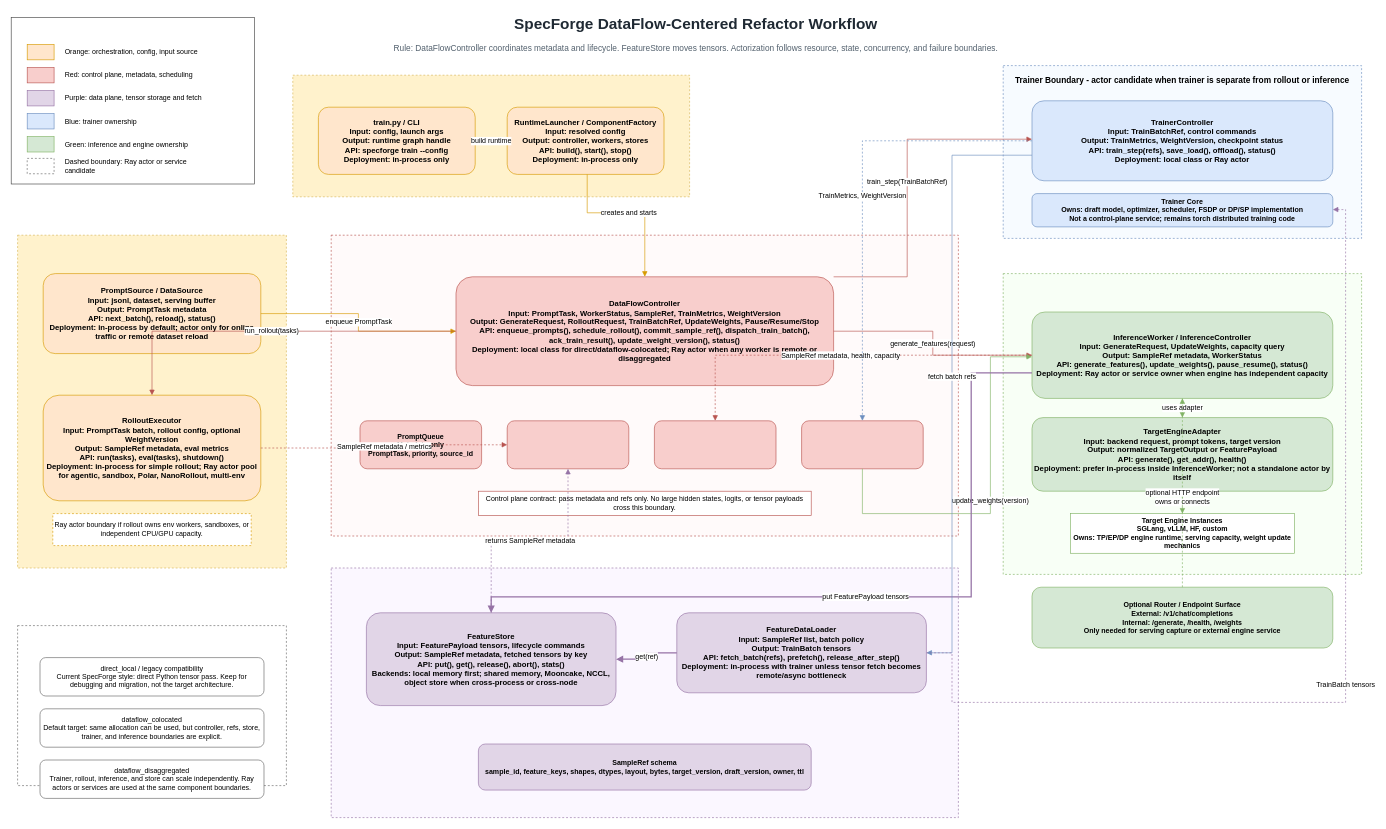
The diagram is 1386 pixels wide and 829 high, and some of its shapes have lost their labels. The box of each missing label's shape, as (x1, y1, x2, y2) in pixels:
Control Plane Boundary - one coordination point: (331, 235, 958, 536)
Data Plane Boundary - tensors live here; controllers pass refs and metadata: (331, 567, 958, 818)
Inference Boundary - actor or microservice candidate: (1003, 273, 1362, 574)
Legend: (11, 17, 254, 184)
Orchestration Layer - prefer in-process: (292, 75, 690, 197)
Prompt and Rollout Boundary: (17, 235, 286, 568)
Runtime Profiles - deployment choices, not separate dataflow semantics: (17, 625, 286, 786)
Runtime State health, capacity, bytes backpressure, worker leases: (654, 420, 776, 469)
SampleRefQueue Metadata only SampleRef ids ready for training: (507, 420, 629, 469)
Version Policy target_version, draft_version, train/serve consistency: (801, 420, 923, 469)
